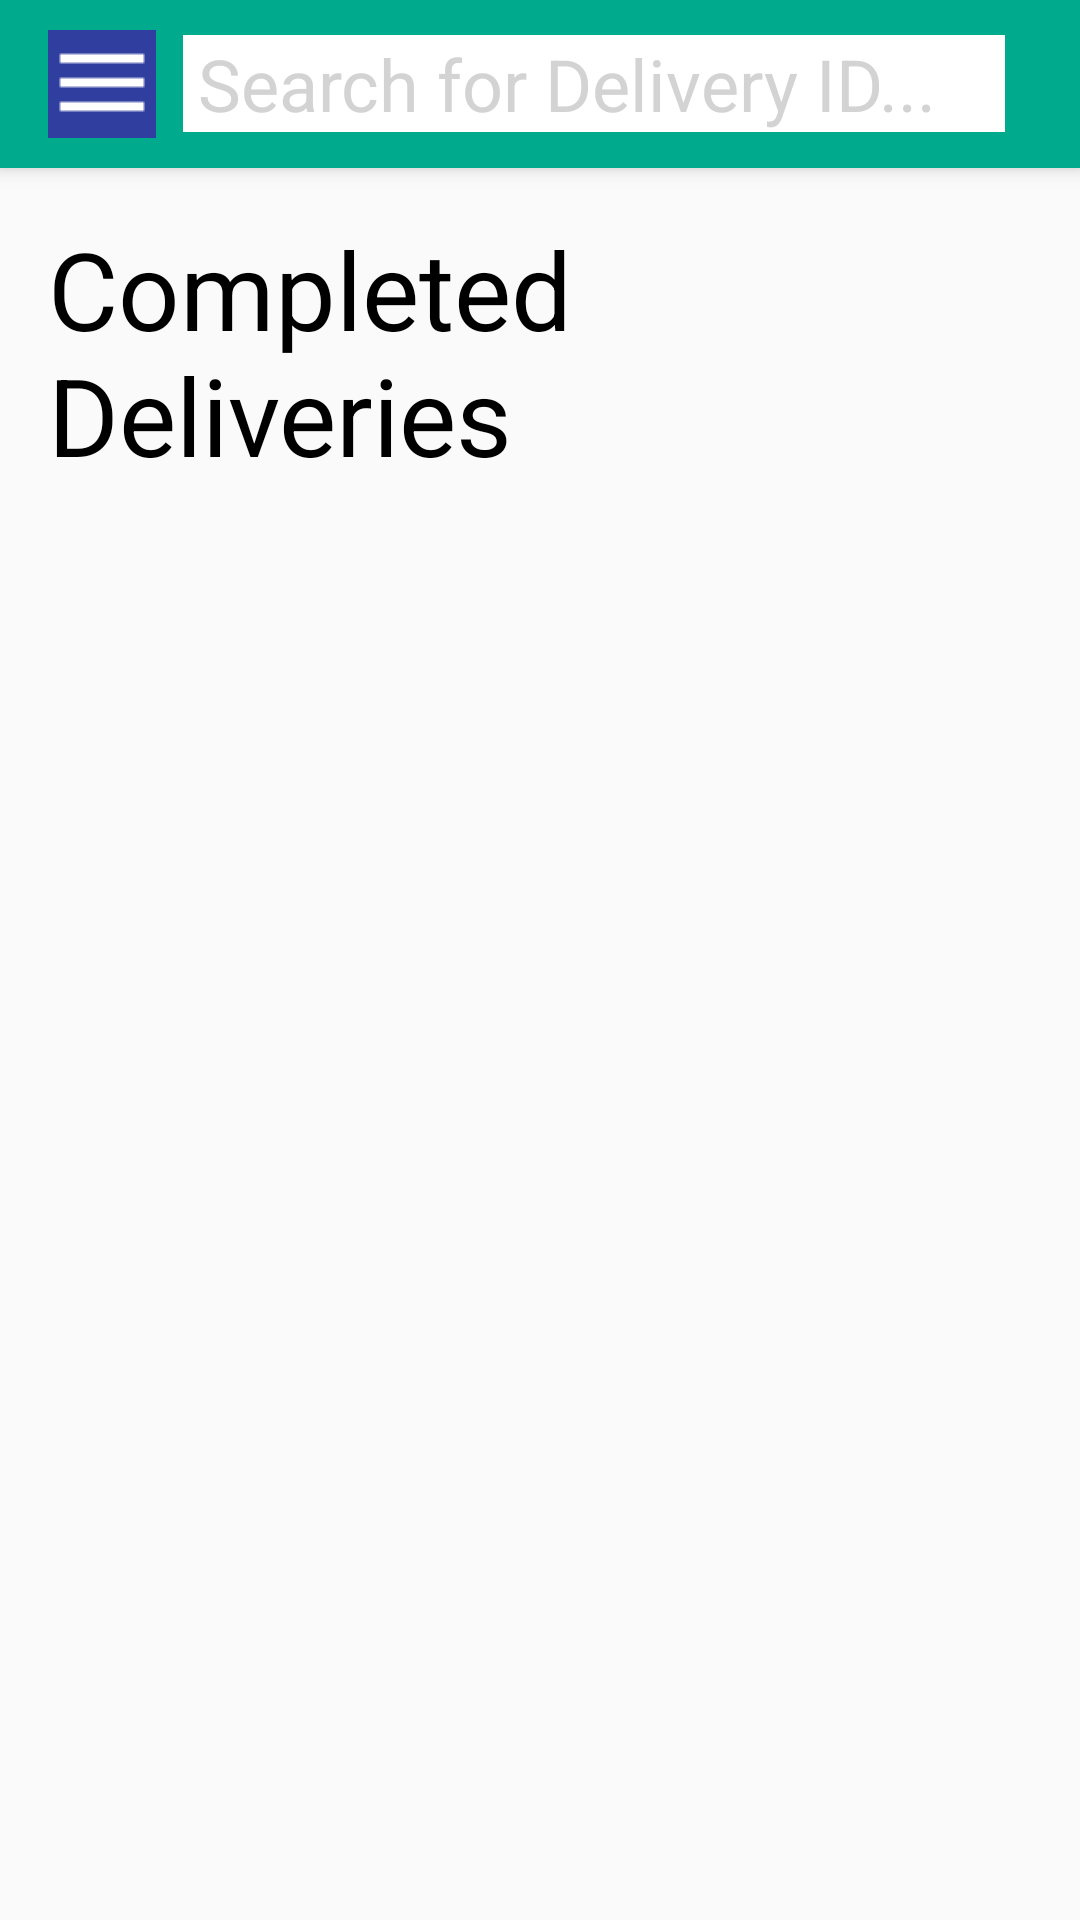

Named icons in this screenshot (1080w x 1920h) and their bounding boxes, [x1,y1,x2,y2]:
menu: [48,30,156,138]
